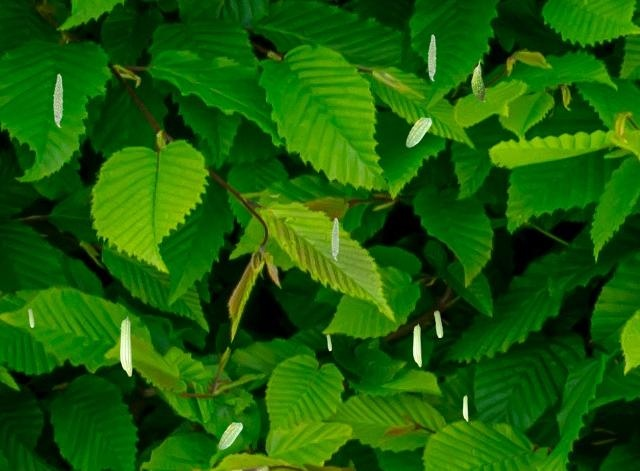ampalaya: (405, 117, 432, 147), (119, 316, 132, 376), (218, 421, 243, 450), (470, 59, 485, 102), (52, 73, 63, 127), (412, 323, 422, 367), (427, 34, 436, 81), (330, 217, 339, 260), (433, 310, 443, 338), (462, 394, 468, 422), (27, 307, 34, 327), (326, 333, 332, 351)
